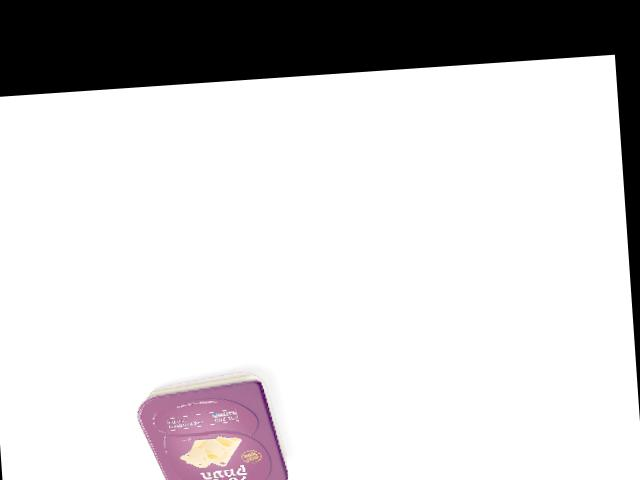cheese: (134, 370, 289, 480)
